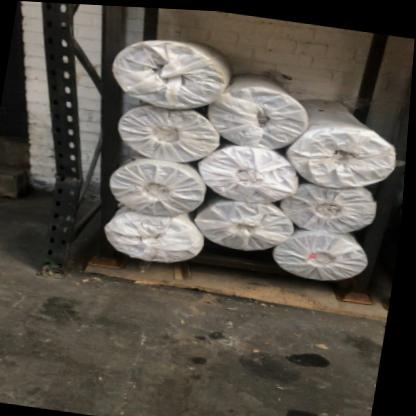vertical_damage: (39, 131, 101, 222)
